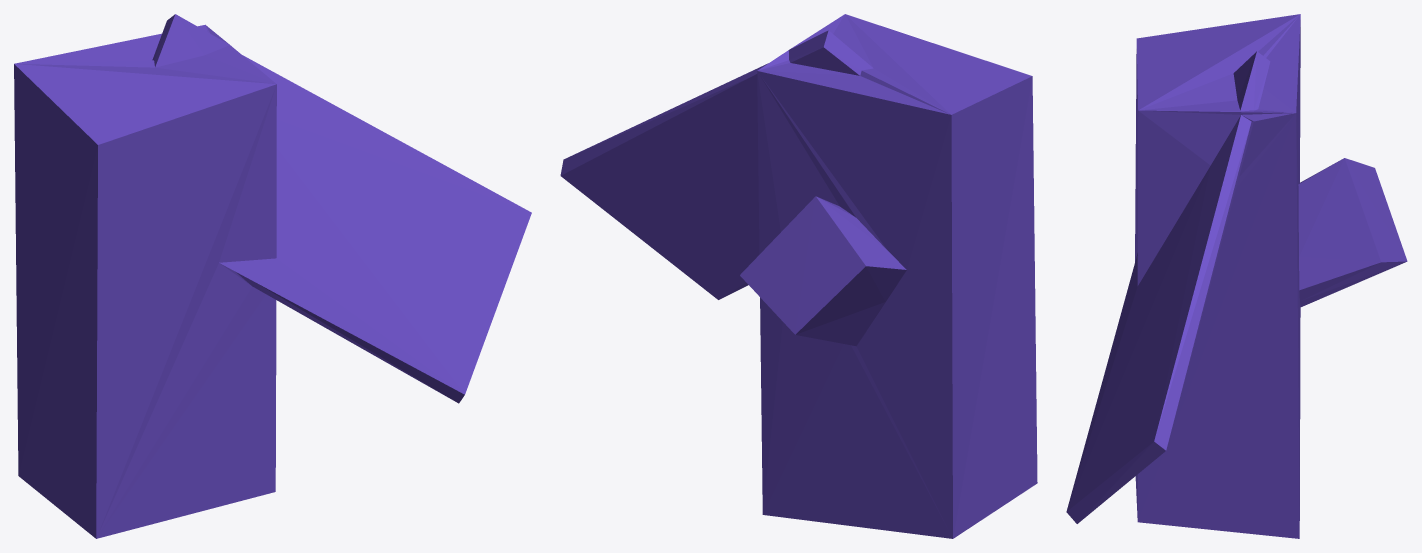
3 views of the same model, side by side, from view 1: azimuth 30°, elevation 25°; view 2: azimuth 150°, elevation 25°; view 3: azimuth 270°, elevation 25° (orthographic). The views are drawn at different scales.
Parts seen in each view (by area): view 1: 746_Cube.2996; view 2: 746_Cube.2996; view 3: 746_Cube.2996.
Part boxes in pixels (x1,y1,x2,y2): 746_Cube.2996: (14, 14, 531, 538); 746_Cube.2996: (560, 14, 1037, 538); 746_Cube.2996: (1066, 14, 1407, 538).
Size of the model in its own units: 13.69 by 13.53 by 8.96.
